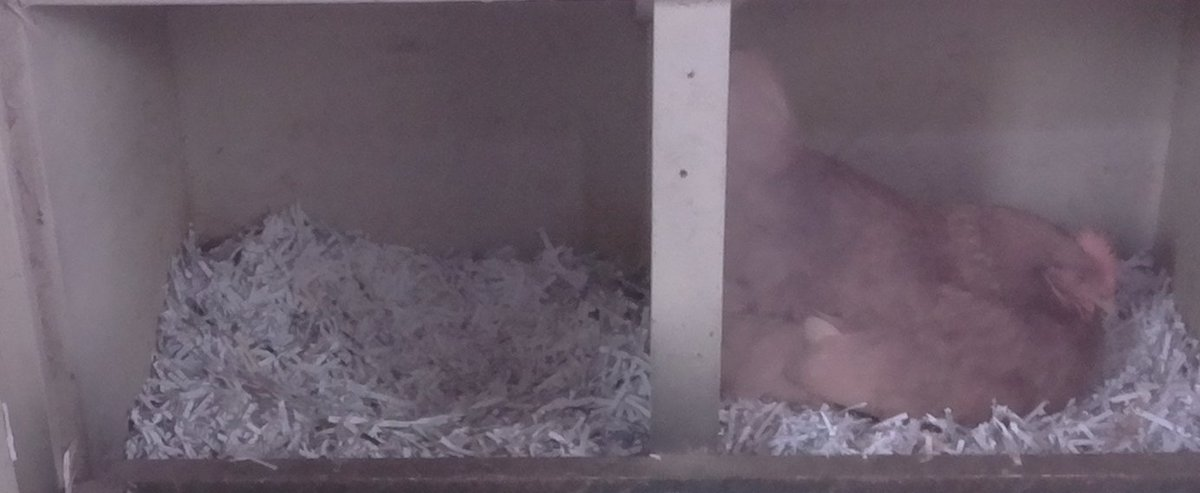hen: (734, 53, 1134, 437)
